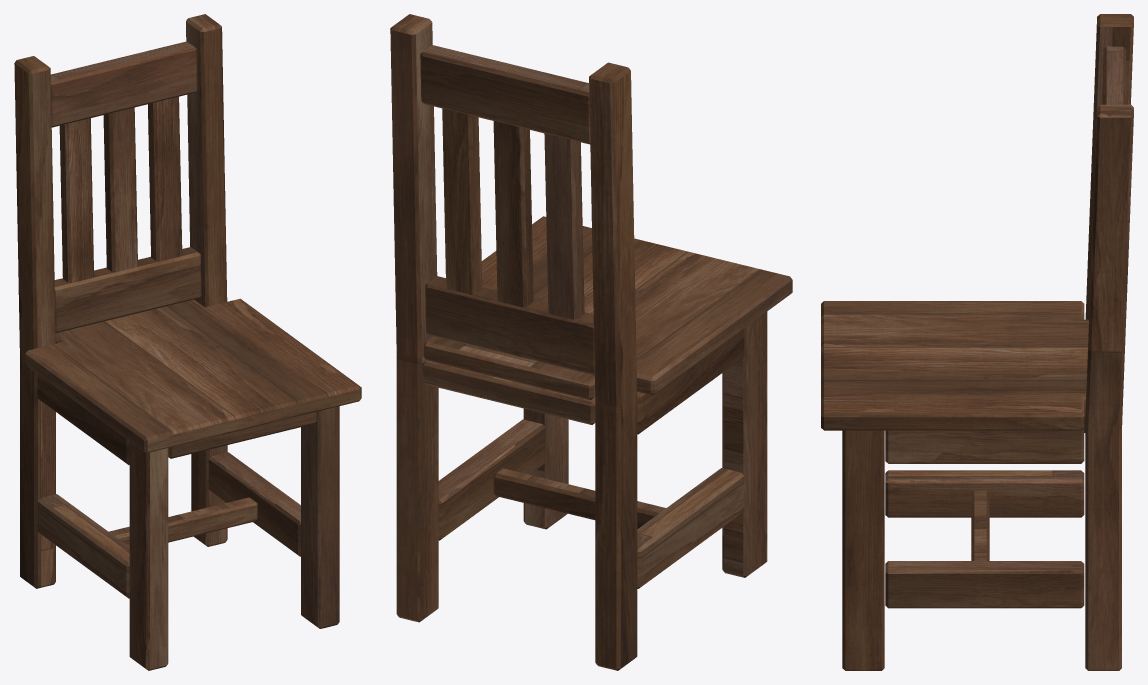
Rendered from Max_model_Chair.fbx.
3 renders of one model, left to right at view 1: azimuth 30°, elevation 25°; view 2: azimuth 150°, elevation 25°; view 3: azimuth 270°, elevation 25°, orthographic. The views are drawn at different scales.
Visible parts, largest first — view 1: Chair; view 2: Chair; view 3: Chair.
Boxes of the visible parts, x1=… form: Chair: x1=14, y1=14, x2=361, y2=670; Chair: x1=390, y1=14, x2=792, y2=670; Chair: x1=821, y1=14, x2=1133, y2=670.
Bounding box in the file's own units: 51.08 × 115 × 58.73.
